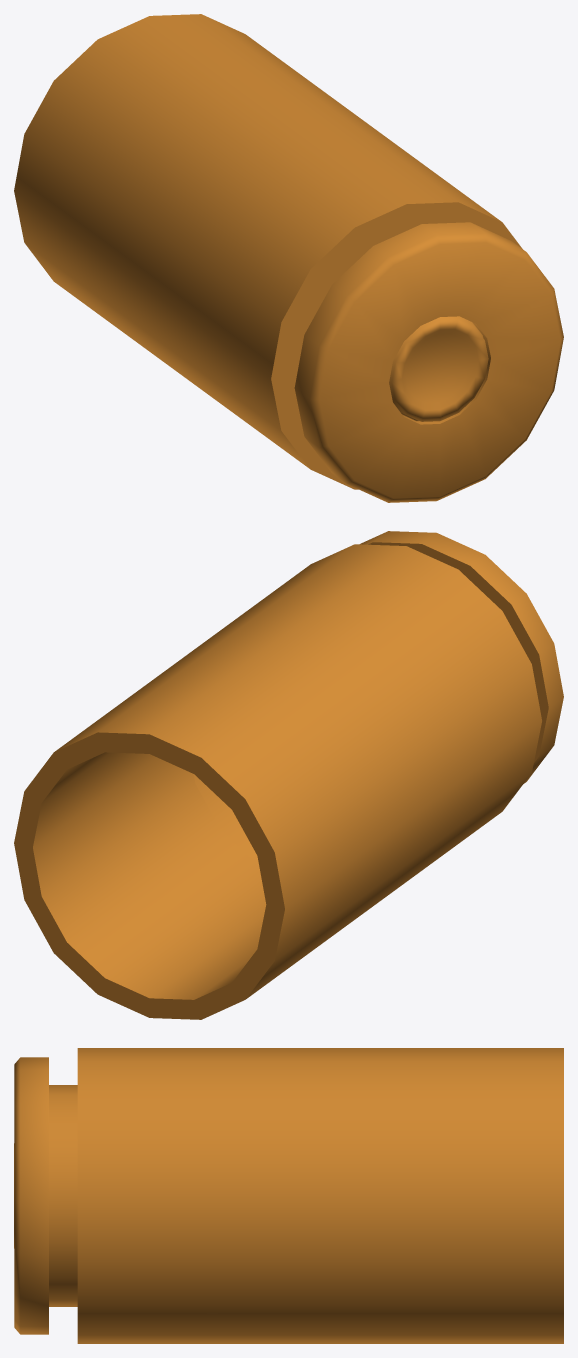
File: BulletCasing.fbx
3 views of the same model, one above another, from view 1: azimuth 30°, elevation 25°; view 2: azimuth 150°, elevation 25°; view 3: azimuth 270°, elevation 25° (orthographic). The views are drawn at different scales.
Parts seen in each view (by area): view 1: Cylinder; view 2: Cylinder; view 3: Cylinder.
Part boxes in pixels (left/top/right/bottom): Cylinder: left=14, top=14, right=563, bottom=502; Cylinder: left=14, top=531, right=563, bottom=1019; Cylinder: left=14, top=1048, right=563, bottom=1343.
Bounding box in the file's own units: 124 × 124 × 230.
